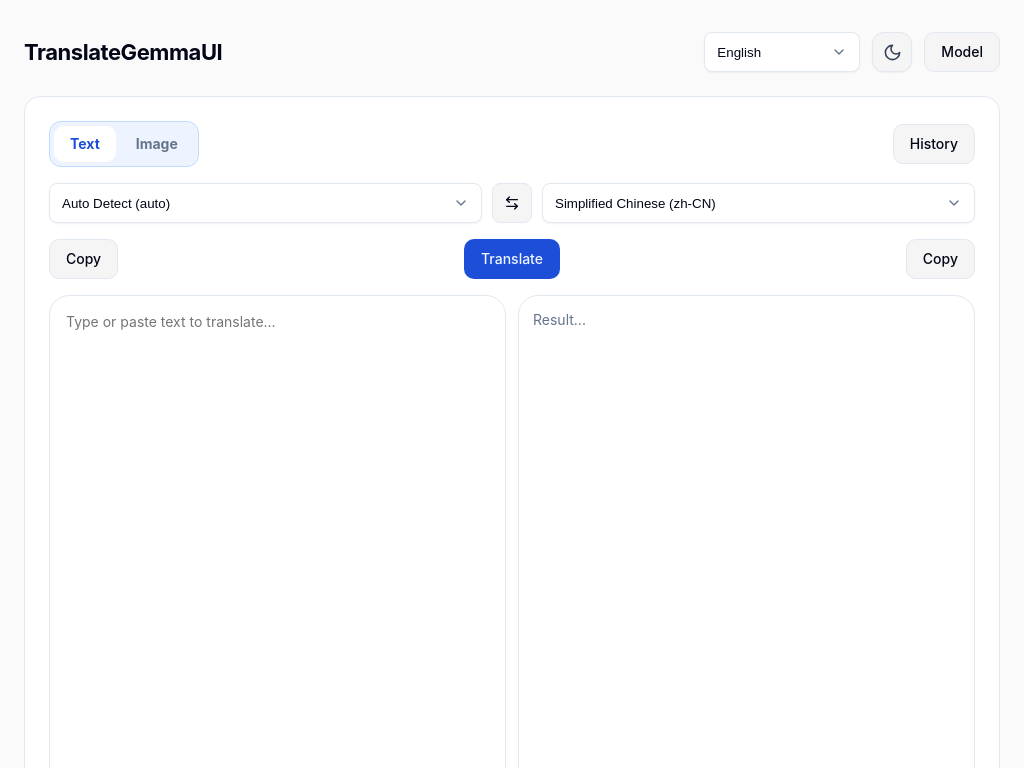
TranslateGemmaUI webui › clears history from the drawer
This screenshot has width=1024, height=768.
Click the button "History" at (934, 144), box left=893, top=124, right=975, bottom=164
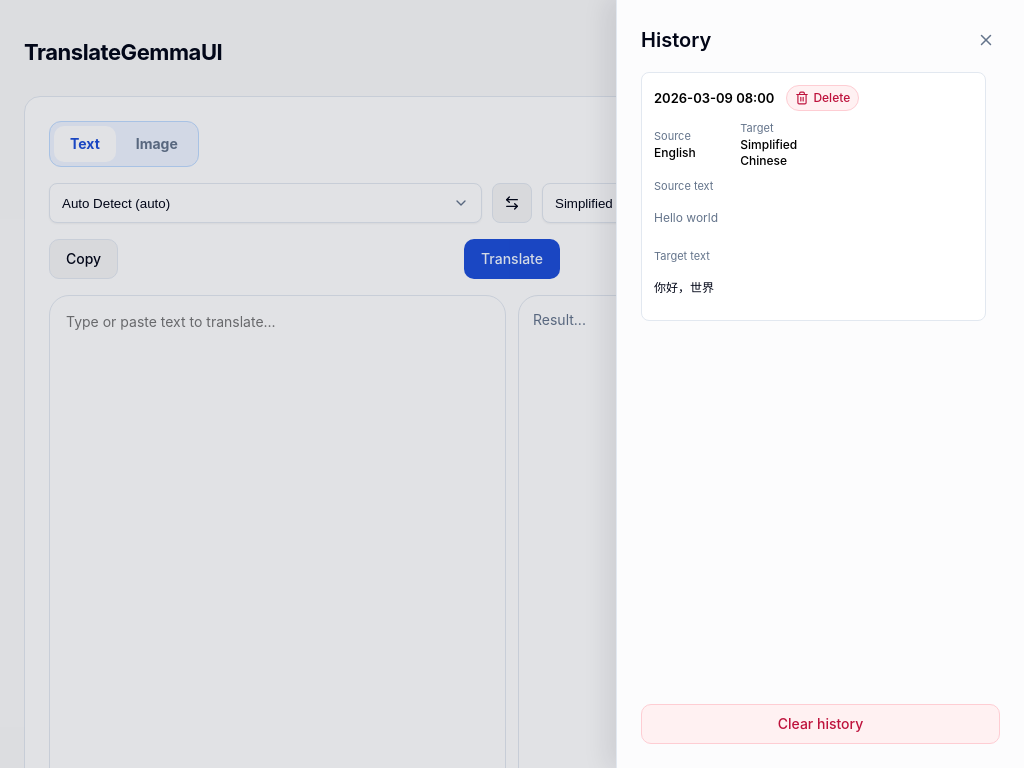
Click the button "Clear history" at (820, 724), box left=641, top=704, right=1000, bottom=744
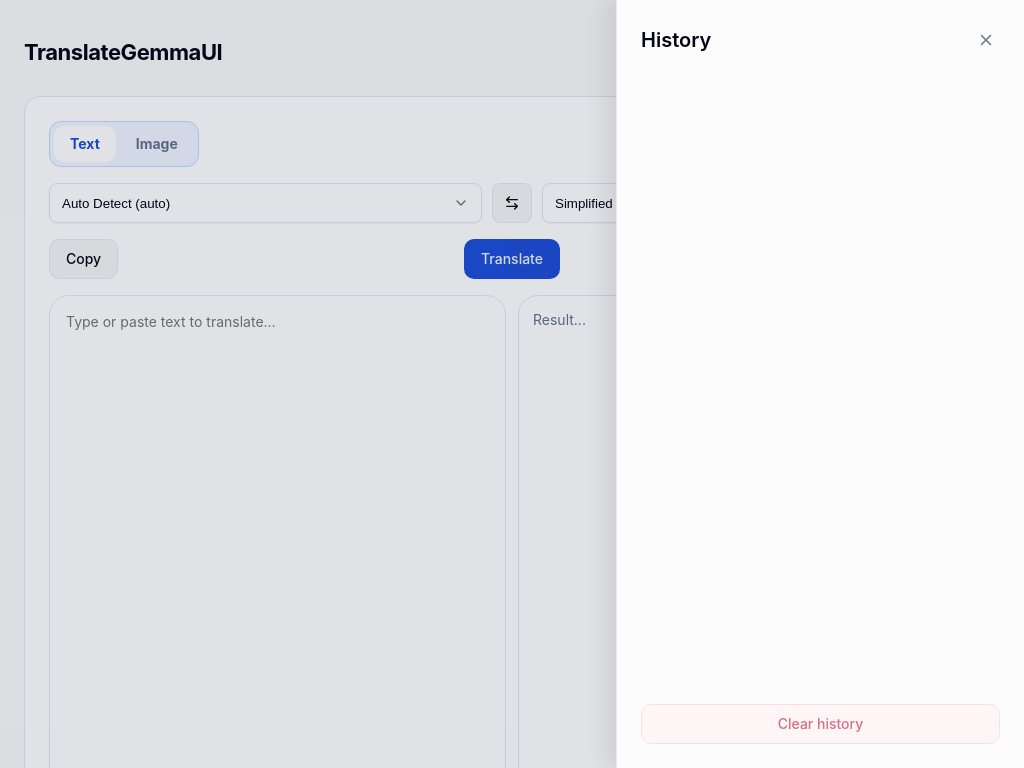
Check: the button "Hello world" is gone
Check: the button "Clear history" is disabled, box left=641, top=704, right=1000, bottom=744
